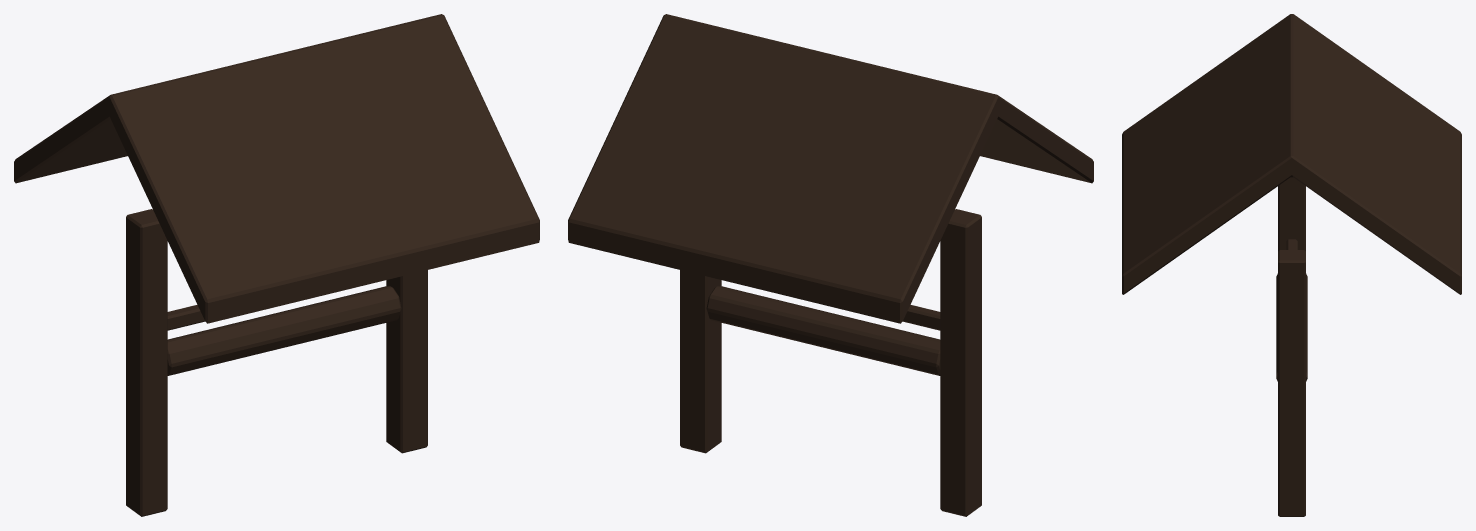
Rendered from well_roof.fbx.
The picture shows the model from 3 angles, left to right: view 1: azimuth 30°, elevation 25°; view 2: azimuth 150°, elevation 25°; view 3: azimuth 270°, elevation 25°; orthographic projection. The views are drawn at different scales.
Parts seen in each view (by area): view 1: well_roof; view 2: well_roof; view 3: well_roof.
Part boxes in pixels (bbox=[...]): well_roof: bbox=[14, 14, 539, 516]; well_roof: bbox=[568, 14, 1093, 516]; well_roof: bbox=[1122, 14, 1461, 516].
Bounding box in the file's own units: 720 × 868 × 720.
